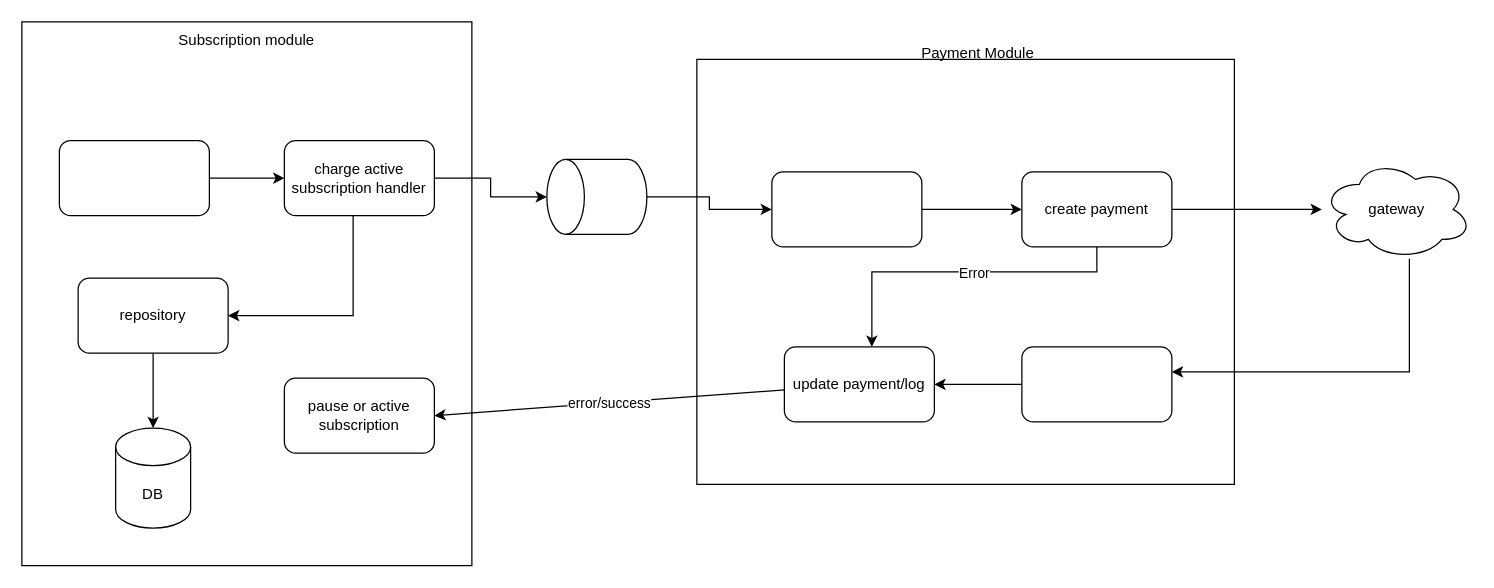
Image size: 1494x588. Some labels were removed from this diagram. Here are the shapes that lost their labels. From the top down, the box of each, then its label:
(58, 139, 209, 216): job schedule (1 per day)
(546, 158, 647, 234): queue
(771, 171, 922, 247): consumer
(1021, 346, 1172, 422): Controller (webhook)
